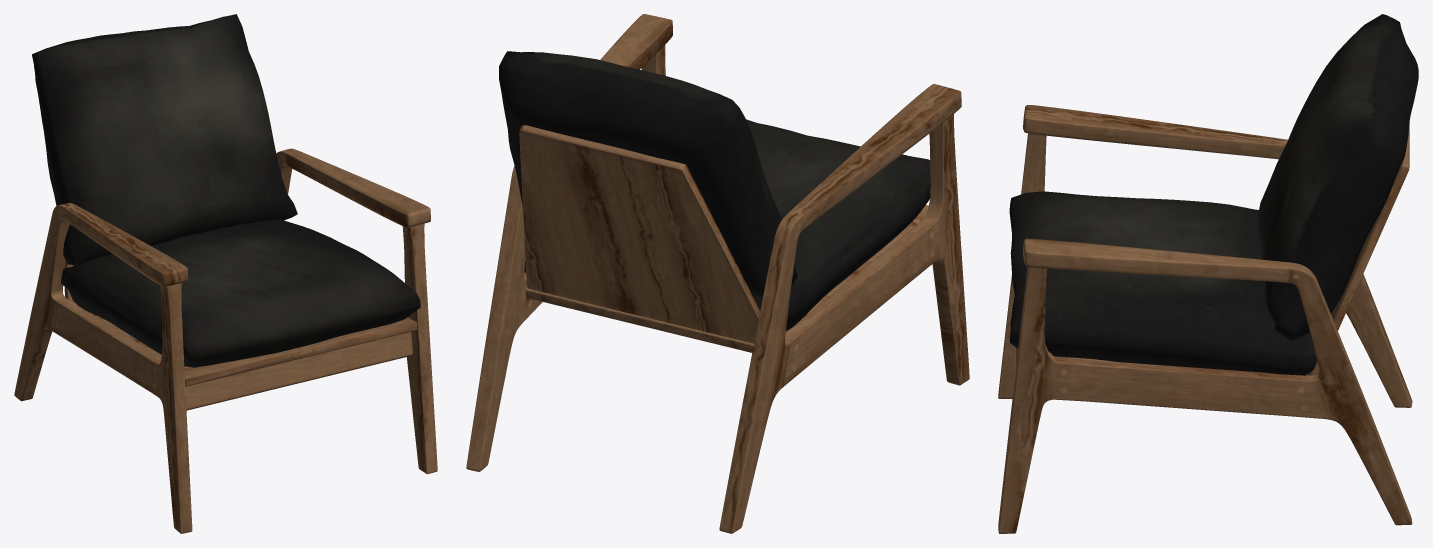
The model's file is modern_arm_chair_01.glb.
3 renders of one model, left to right at view 1: azimuth 30°, elevation 25°; view 2: azimuth 150°, elevation 25°; view 3: azimuth 270°, elevation 25°, orthographic. The views are drawn at different scales.
Visible parts, largest first — view 1: modern_arm_chair_01; view 2: modern_arm_chair_01; view 3: modern_arm_chair_01.
Part boxes in pixels (x1=…): modern_arm_chair_01: x1=14, y1=14, x2=437, y2=533; modern_arm_chair_01: x1=466, y1=14, x2=969, y2=533; modern_arm_chair_01: x1=998, y1=14, x2=1418, y2=533.
Size of the model in its own units: 0.8203 by 1.02 by 0.9865.
2 materials, 2 textured.
